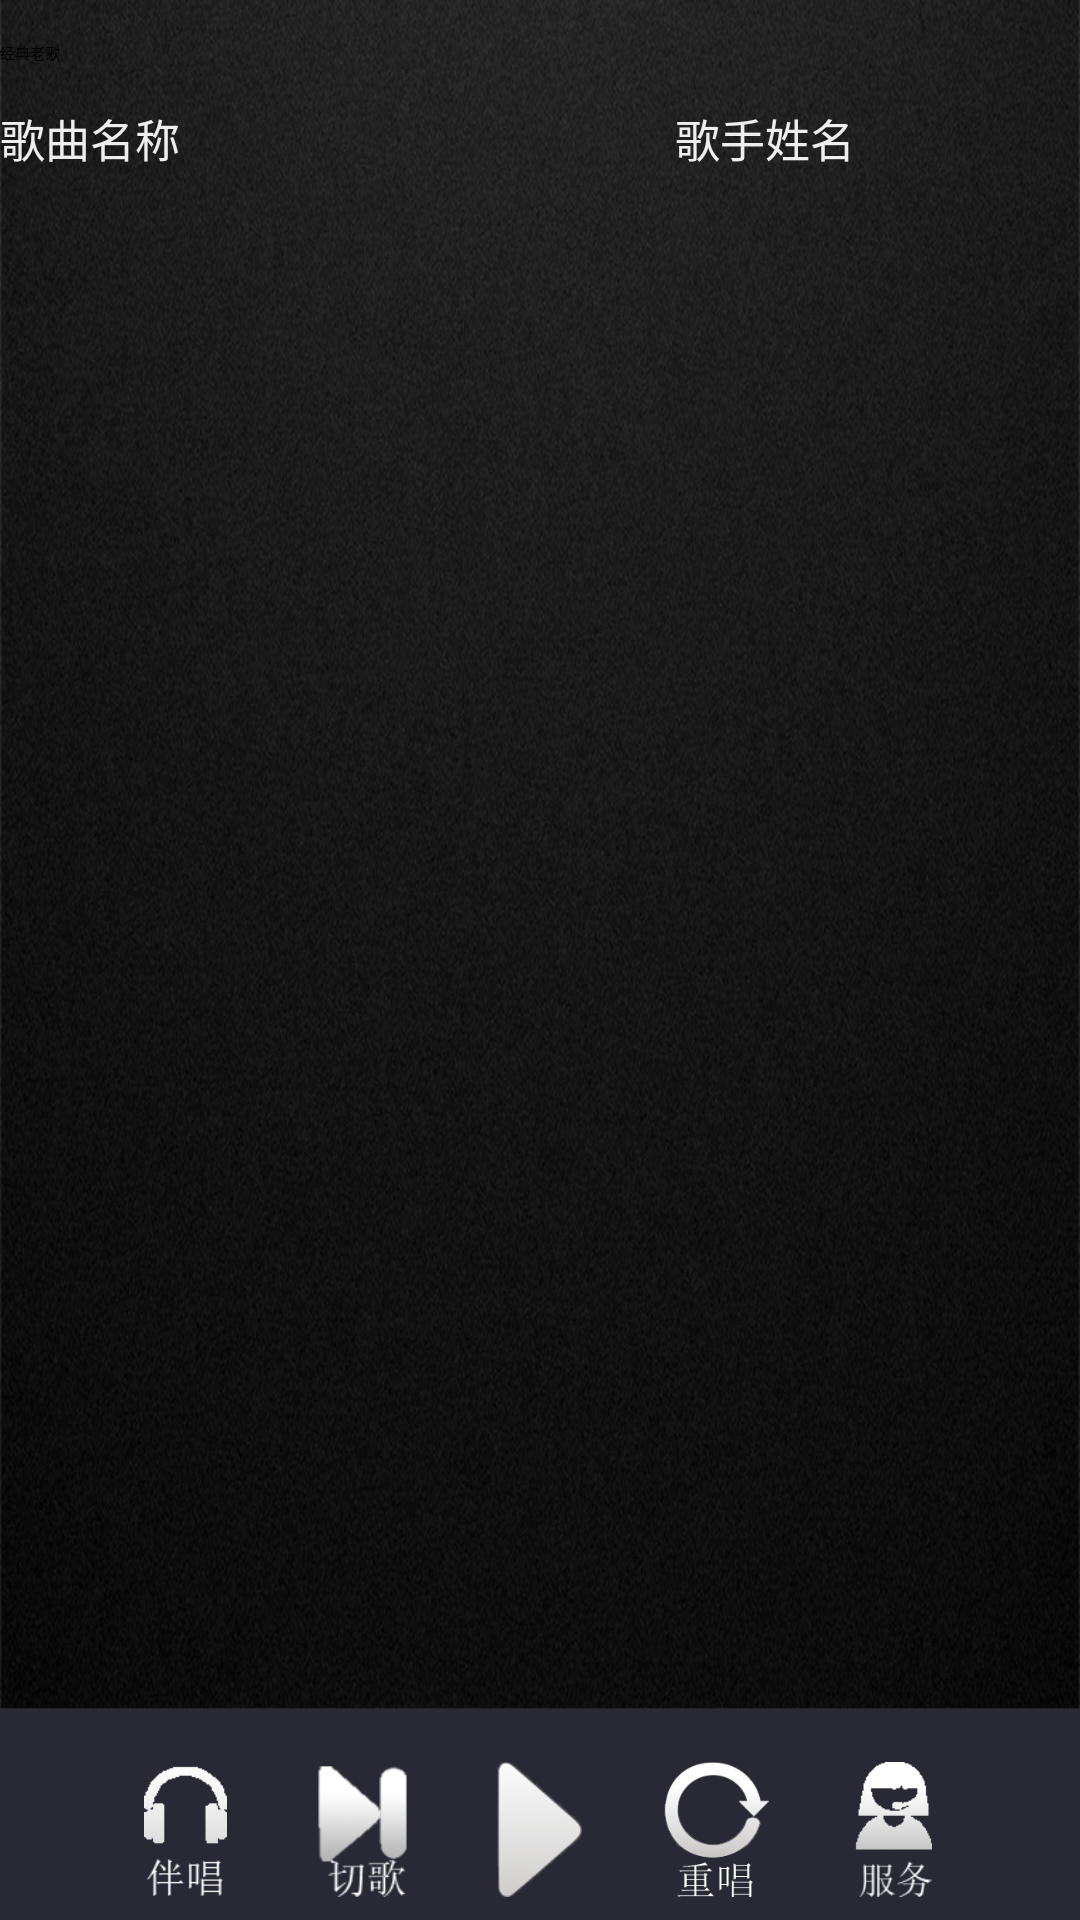

Where icons sit on this 1080px x 1920px app screen, as (x1, y1, x2, y2):
play: (497, 1762, 582, 1897)
